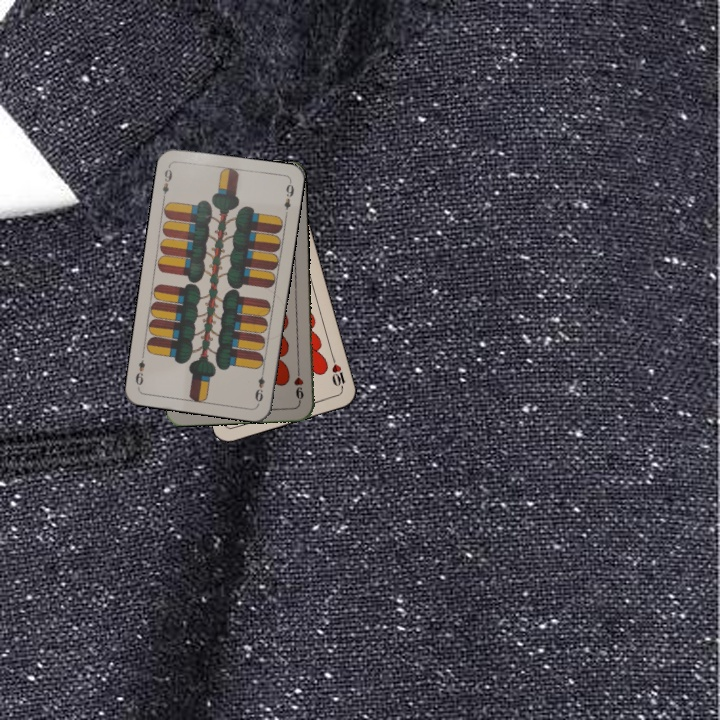E9: (158, 162, 175, 202), (251, 365, 267, 406)
H10: (328, 353, 348, 393)
H9: (290, 364, 306, 405)
